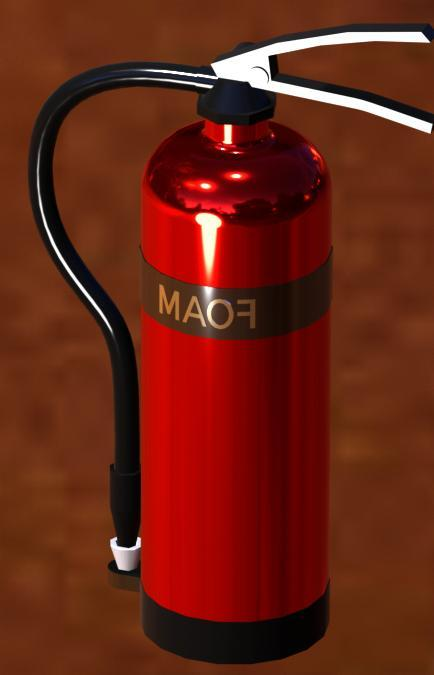Fire Extinguisher: (14, 16, 434, 670)
